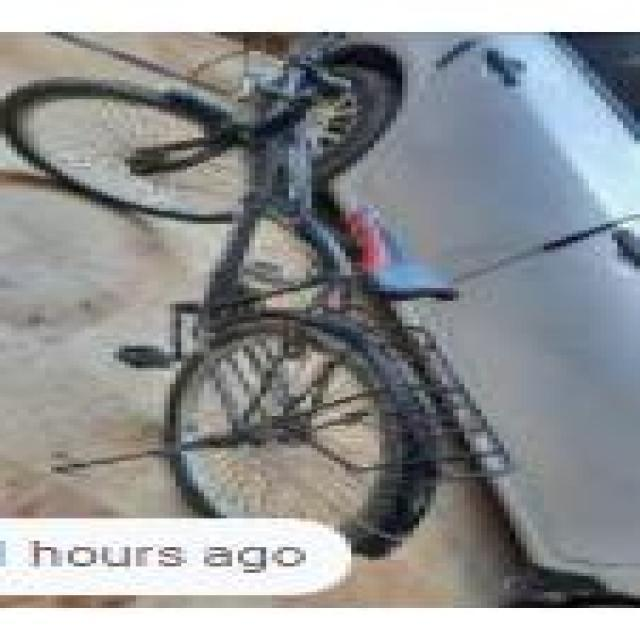bicycle: (24, 43, 556, 529)
